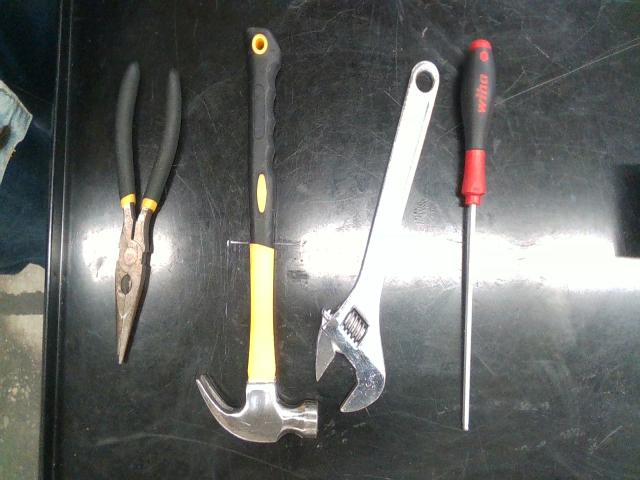Adjustable spanner: (316, 62, 439, 412)
Hammer: (196, 28, 318, 442)
Needle-nose pliers: (115, 62, 181, 363)
Screwdriver: (461, 38, 495, 432)
